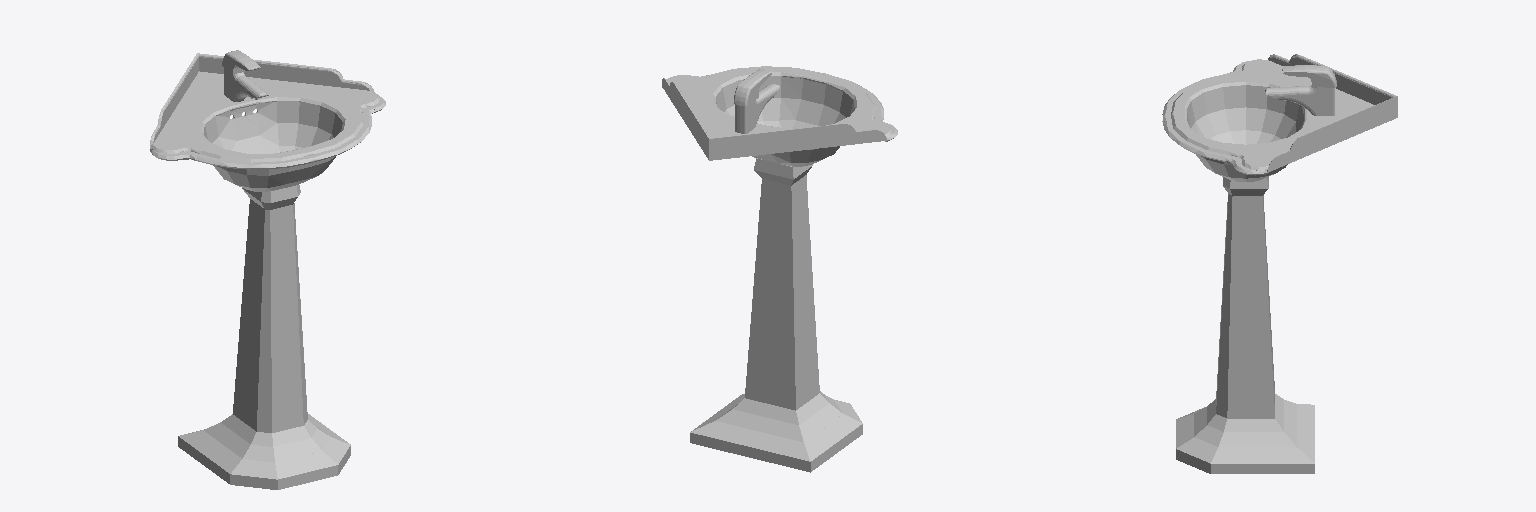
Rendered from CornerSink.obj.
3 views of the same model, side by side, from view 1: azimuth 30°, elevation 25°; view 2: azimuth 150°, elevation 25°; view 3: azimuth 270°, elevation 25° (orthographic).
Visible parts, largest first — view 1: Object.1; view 2: Object.1; view 3: Object.1.
Part boxes in pixels (bbox=[...]): Object.1: bbox=[150, 50, 385, 489]; Object.1: bbox=[662, 66, 897, 472]; Object.1: bbox=[1162, 54, 1397, 473].
Bounding box in the file's own units: 16.24 × 25.4 × 14.33.